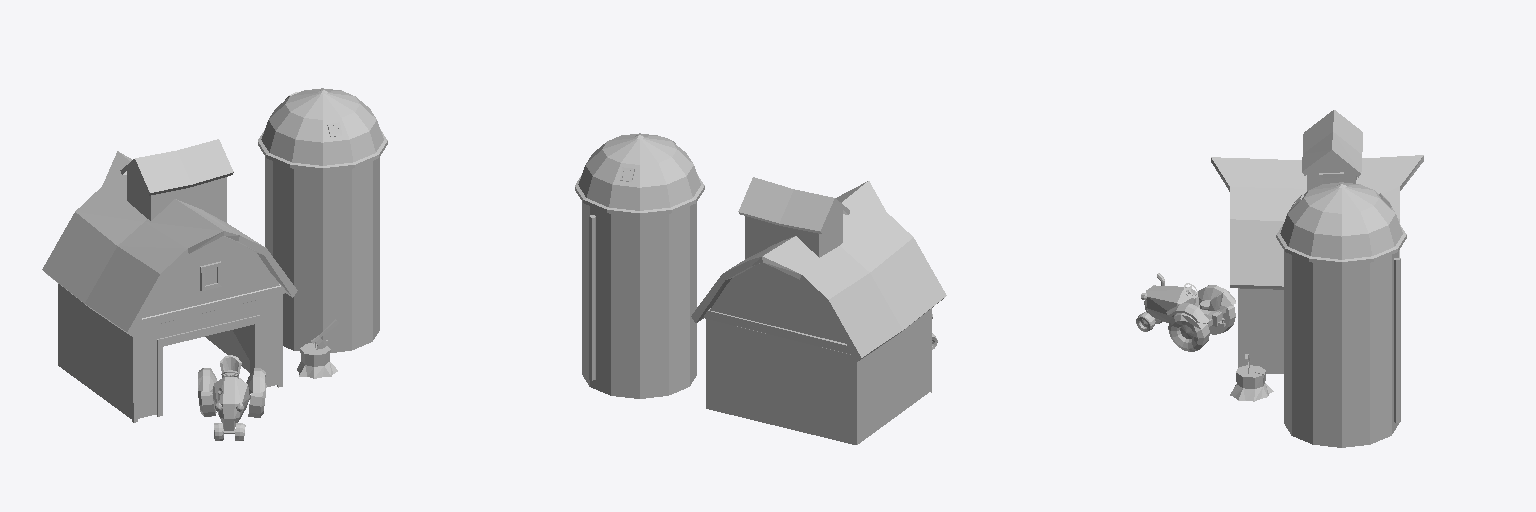
Rendered from farm.obj.
3 renders of one model, left to right at view 1: azimuth 30°, elevation 25°; view 2: azimuth 150°, elevation 25°; view 3: azimuth 270°, elevation 25°, orthographic.
Parts seen in each view (by area): view 1: farm_barn_farm_barn_mesh, farm_silo_farm_silo_mesh, farm_tractor_farm_tractor_mesh, farm_stump_farm_stump_mesh; view 2: farm_barn_farm_barn_mesh, farm_silo_farm_silo_mesh; view 3: farm_silo_farm_silo_mesh, farm_barn_farm_barn_mesh, farm_tractor_farm_tractor_mesh, farm_stump_farm_stump_mesh.
Part boxes in pixels (left/top/right/bottom): farm_barn_farm_barn_mesh: left=42, top=139, right=297, bottom=422; farm_silo_farm_silo_mesh: left=258, top=88, right=387, bottom=352; farm_tractor_farm_tractor_mesh: left=198, top=355, right=266, bottom=440; farm_stump_farm_stump_mesh: left=297, top=319, right=338, bottom=378; farm_barn_farm_barn_mesh: left=691, top=177, right=946, bottom=444; farm_silo_farm_silo_mesh: left=575, top=133, right=704, bottom=398; farm_silo_farm_silo_mesh: left=1276, top=182, right=1406, bottom=447; farm_barn_farm_barn_mesh: left=1211, top=110, right=1423, bottom=373; farm_tractor_farm_tractor_mesh: left=1136, top=273, right=1235, bottom=351; farm_stump_farm_stump_mesh: left=1230, top=354, right=1273, bottom=401.
Size of the model in its own units: 4.73 by 3.52 by 3.83.